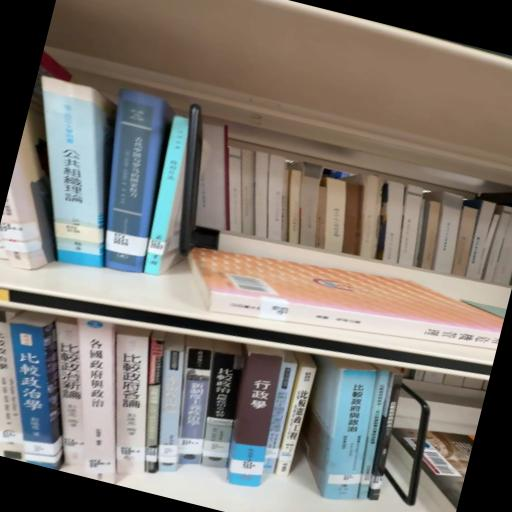flat: (188, 249, 504, 352)
